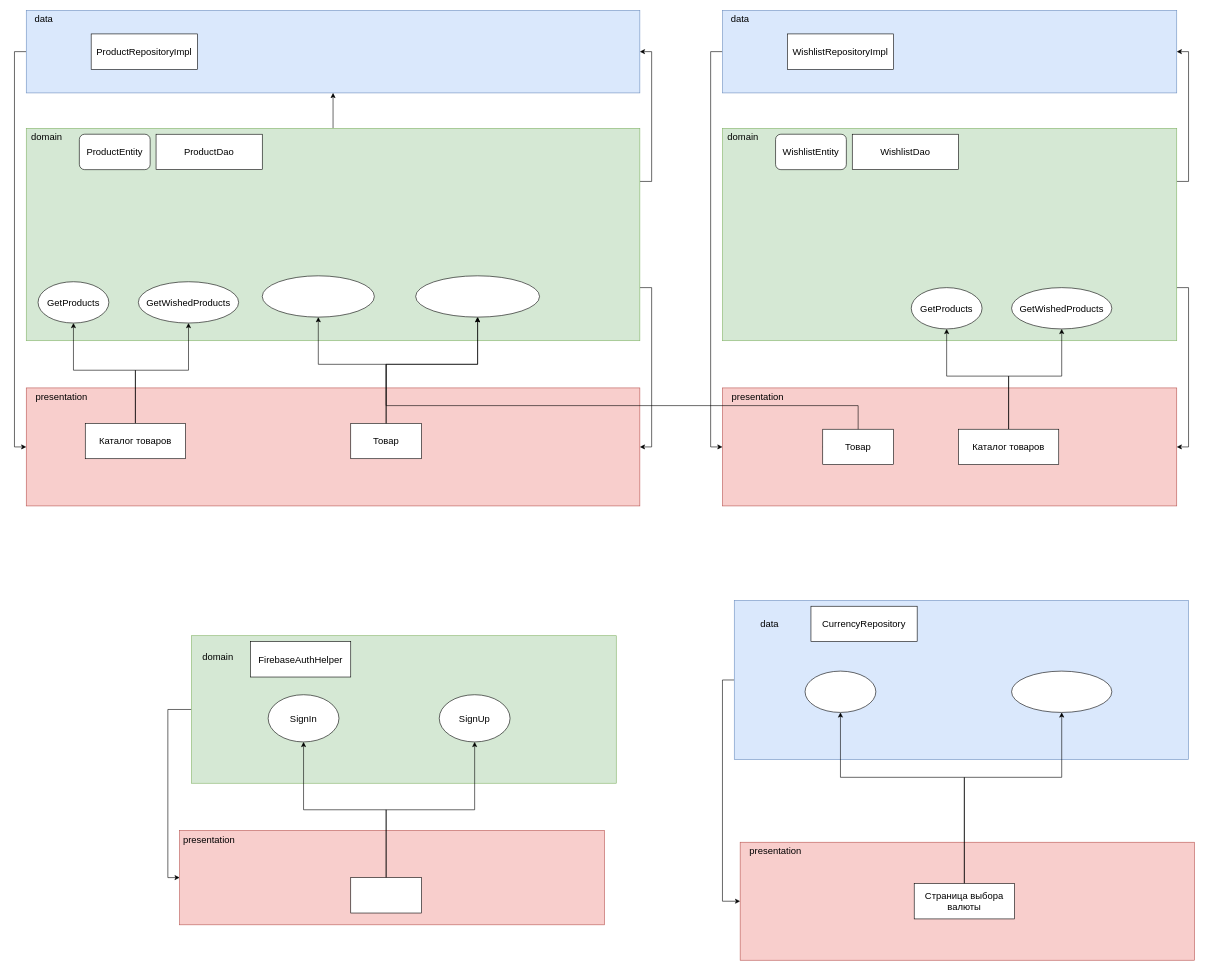
Image size: 1205x971. Some labels were removed from this diagram. Here are the shapes that lost their labels. From the top down, the centre of each, then its label:
At (x=318, y=296): "GetProductDetailsById".
At (x=477, y=296): "AddProductToWishedById".
At (x=840, y=691): "SaveSelectedCurrency".
At (x=1061, y=691): "GetSelectedCurrency".
At (x=386, y=895): "Страница входа".
